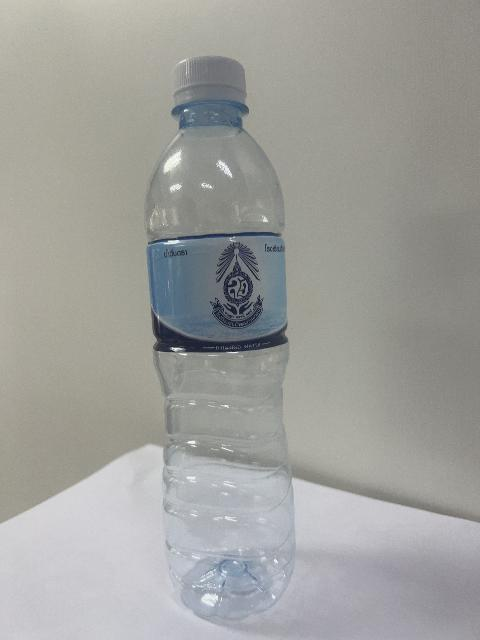bottle: (146, 57, 294, 619)
